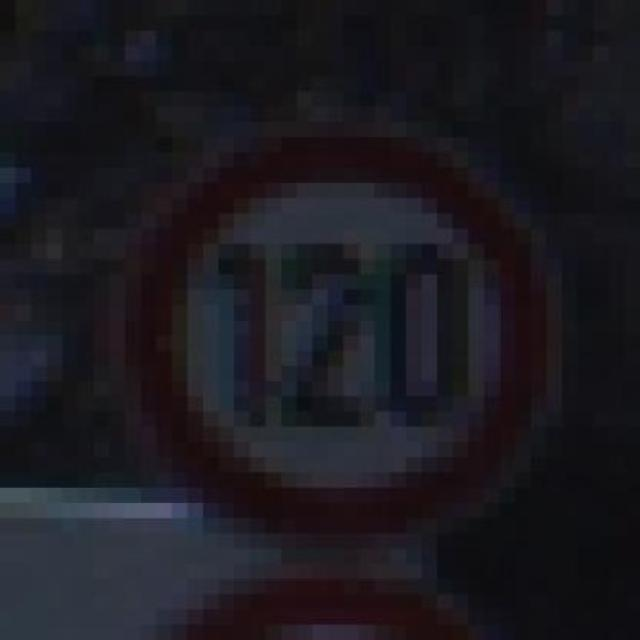forb_speed_over_120: (136, 133, 547, 538)
